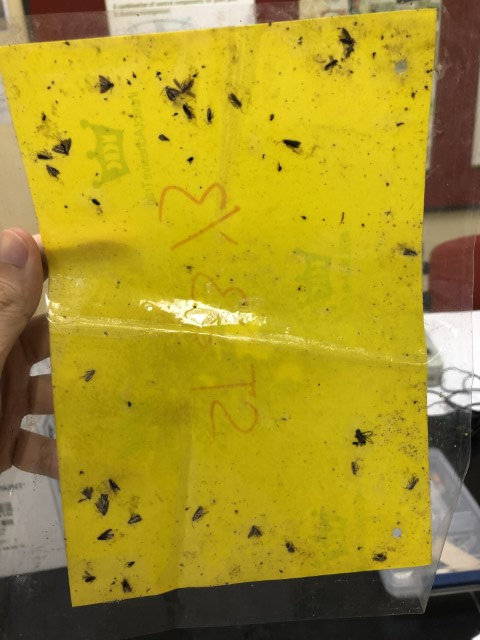DBM: (94, 73, 117, 97), (49, 136, 73, 158), (189, 505, 211, 529), (158, 82, 181, 104), (227, 90, 247, 115), (93, 492, 111, 518), (76, 484, 96, 505), (273, 138, 305, 151), (43, 163, 63, 183), (105, 477, 123, 497), (178, 102, 195, 123), (244, 524, 264, 539), (124, 513, 143, 527), (204, 107, 218, 125), (400, 248, 418, 260)
Other: (333, 27, 357, 62), (350, 424, 377, 449), (317, 52, 340, 75), (402, 473, 421, 494), (94, 527, 118, 543), (78, 366, 99, 383), (80, 569, 97, 586), (368, 549, 390, 562), (284, 538, 299, 555), (121, 576, 133, 595), (351, 458, 361, 477), (37, 109, 48, 123), (89, 196, 102, 207), (124, 557, 136, 568), (269, 110, 277, 122)
